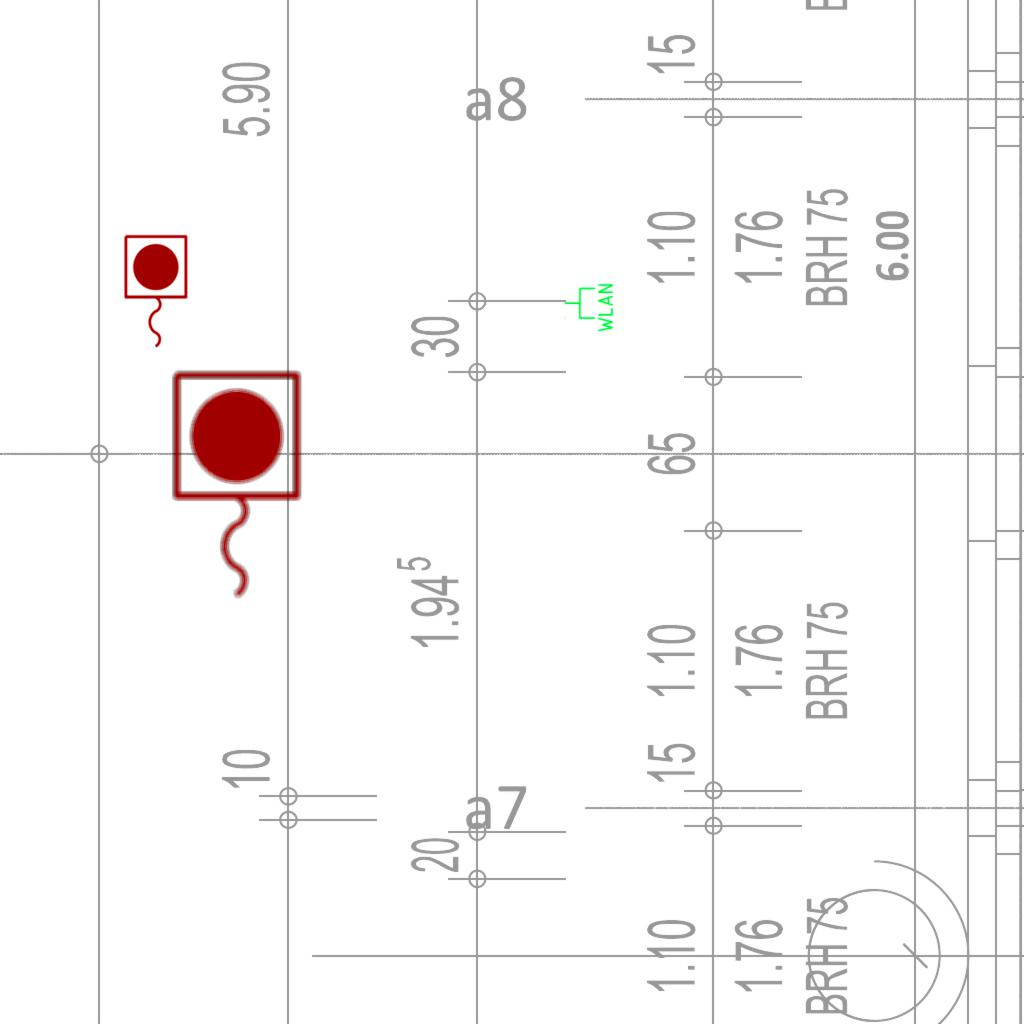WLAN: (563, 282, 615, 334)
Zugtaster: (163, 364, 307, 608), (119, 231, 191, 353)
